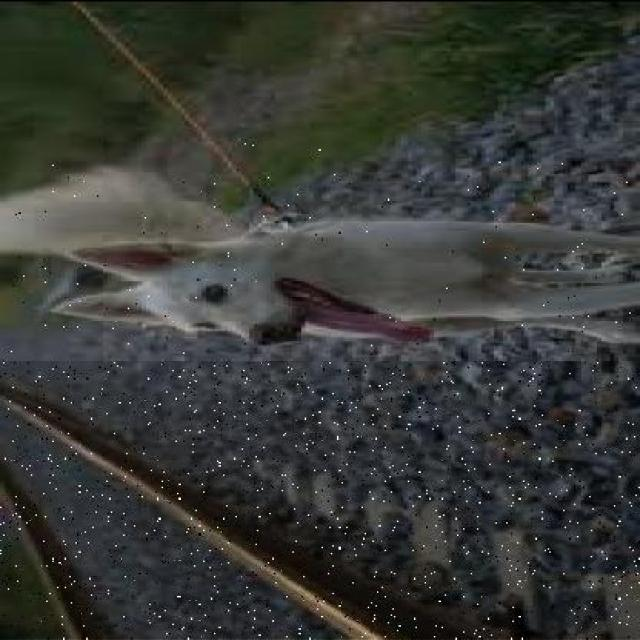rail: (1, 362, 640, 640)
